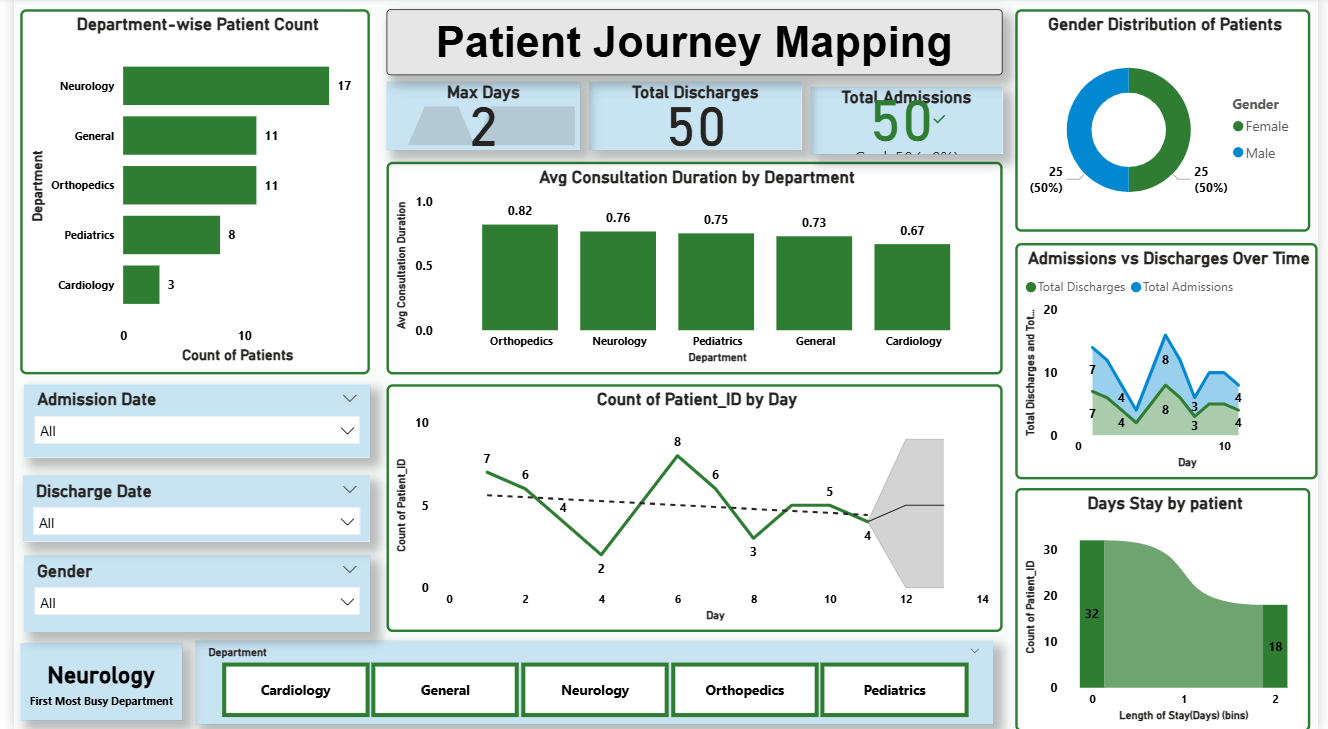

This screenshot's page, from the dashboard's own definition file:
{"tool":"powerbi","page":{"name":"Page 1","canvas":[1280,720],"ordinal":0},"visuals":[{"type":"barChart","title":"Department-wise Patient Count","fields":{"Category":["Sheet1.Department"],"Y":["Sheet1.Count of Patients"]},"box":[6.1,11,343.6,358.3],"z":0},{"type":"donutChart","title":"Gender Distribution of Patients","fields":{"Category":["Sheet1.Gender"],"Y":["Sheet1.Count of Patients"]},"box":[982.8,11,289.6,218.4],"z":1000},{"type":"clusteredColumnChart","fields":{"Category":["Sheet1.Department"],"Y":["Sheet1.Avg Consultation Duration"]},"box":[365.6,160.7,604.9,208.6],"z":2000},{"type":"stackedAreaChart","title":"Admissions vs Discharges Over Time","fields":{"Category":["Sheet1.Admission Date.Variation.Date Hierarchy.Day"],"Y":["Sheet1.Total Discharges","Sheet1.Total Admissions"]},"box":[982.8,240.5,296.9,231.9],"z":3000},{"type":"ribbonChart","title":"Days Stay by patient","fields":{"Category":["Sheet1.Length of Stay(Days) (bins)"],"Y":["CountNonNull(Sheet1.Patient_ID)"]},"box":[982.8,481,289.6,239.3],"z":4000},{"type":"lineChart","fields":{"Category":["Sheet1.Admission Date.Variation.Date Hierarchy.Day"],"Y":["CountNonNull(Sheet1.Patient_ID)"]},"box":[365.6,379.1,604.9,242.9],"z":5000},{"type":"slicer","fields":{"Values":["Sheet1.Department"]},"box":[177.9,630.7,782.8,82.2],"z":6000},{"type":"slicer","fields":{"Values":["Sheet1.Gender"]},"box":[9.8,547.2,339.9,74.8],"z":7000},{"type":"kpi","title":"Max Days","fields":{"TrendLine":["Sheet1.Discharge Date"],"Indicator":["Sheet1.Longest stay"]},"box":[365.6,82.2,190.2,67.5],"z":8000},{"type":"kpi","title":"Total Admissions","fields":{"Indicator":["CountNonNull(Sheet1.total admissions1)"],"Goal":["CountNonNull(Sheet1.target for total admissions)"],"TrendLine":["Sheet1.Admission Date.Variation.Date Hierarchy.Year"]},"box":[781.6,87.1,189,66.3],"z":9000},{"type":"kpi","title":"Total Discharges  ","fields":{"Indicator":["Sheet1.Total Discharges"],"TrendLine":["Sheet1.Discharge Date.Variation.Date Hierarchy.Year"]},"box":[564.4,82.2,208.6,67.5],"z":10000},{"type":"card","fields":{"Values":["Min(Sheet1.Most Busy Department)"]},"box":[6.1,633.1,159.5,76.1],"z":11000},{"type":"slicer","fields":{"Values":["Sheet1.Admission Date"]},"box":[9.8,379.1,339.9,72.4],"z":12000},{"type":"slicer","fields":{"Values":["Sheet1.Discharge Date"]},"box":[8.6,468.7,341.1,65],"z":13000},{"type":"textbox","box":[365.6,11,604.9,65],"z":14000}]}

Visuals, with their boxes in screenshot pixels (x1, y1, x2, y2), scaled from the page's 1280x720 canvas onto the 1328x729 screenshot:
"Department-wise Patient Count" barChart: l=6, t=11, r=363, b=374
"Gender Distribution of Patients" donutChart: l=1020, t=11, r=1320, b=232
clusteredColumnChart - Sheet1.Department x Sheet1.Avg Consultation Duration: l=379, t=163, r=1007, b=374
"Admissions vs Discharges Over Time" stackedAreaChart: l=1020, t=244, r=1327, b=478
"Days Stay by patient" ribbonChart: l=1020, t=487, r=1320, b=728
lineChart - Sheet1.Admission Date.Variation.Date Hierarchy.Day x CountNonNull(Sheet1.Patient_ID): l=379, t=384, r=1007, b=630
slicer - Sheet1.Department: l=185, t=639, r=997, b=722
slicer - Sheet1.Gender: l=10, t=554, r=363, b=630
"Max Days" kpi: l=379, t=83, r=577, b=152
"Total Admissions" kpi: l=811, t=88, r=1007, b=155
"Total Discharges  " kpi: l=586, t=83, r=802, b=152
card - Min(Sheet1.Most Busy Department): l=6, t=641, r=172, b=718
slicer - Sheet1.Admission Date: l=10, t=384, r=363, b=457
slicer - Sheet1.Discharge Date: l=9, t=475, r=363, b=540
textbox: l=379, t=11, r=1007, b=77
